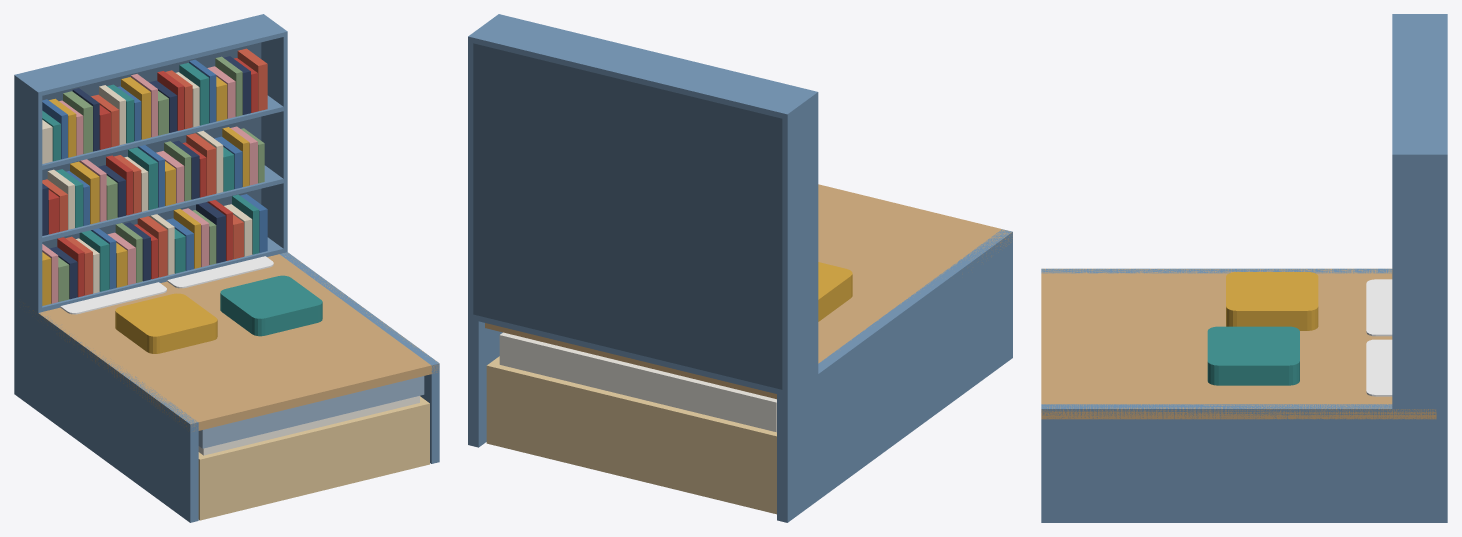
File: sliding_pocket_bed.glb
3 renders of one model, left to right at view 1: azimuth 30°, elevation 25°; view 2: azimuth 150°, elevation 25°; view 3: azimuth 270°, elevation 25°, orthographic. The views are drawn at different scales.
Parts seen in each view (by area): view 1: sliding_pocket_bed_Body, sliding_pocket_bed_Bed; view 2: sliding_pocket_bed_Body, sliding_pocket_bed_Bed; view 3: sliding_pocket_bed_Body, sliding_pocket_bed_Bed.
Part boxes in pixels (box(x1,y1,x2,y2)): sliding_pocket_bed_Body: box(14, 14, 439, 522); sliding_pocket_bed_Bed: box(60, 256, 429, 520); sliding_pocket_bed_Body: box(468, 14, 1012, 522); sliding_pocket_bed_Bed: box(486, 332, 776, 514); sliding_pocket_bed_Body: box(1041, 14, 1447, 522); sliding_pocket_bed_Bed: box(1366, 279, 1392, 396).
Size of the model in its own units: 1.8 by 2.2 by 2.2.
